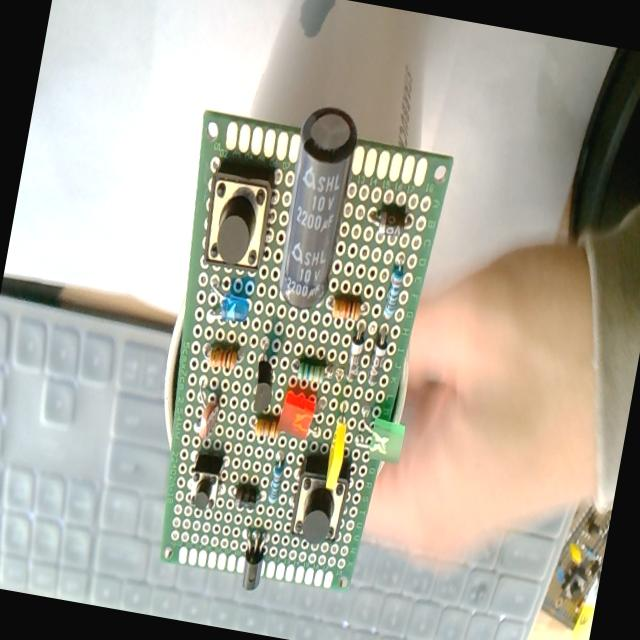Electrolytic capacitor: (266, 87, 366, 321)
cds: (178, 371, 230, 444)
diode: (363, 198, 418, 242), (339, 320, 371, 385), (363, 323, 390, 392), (224, 474, 268, 512)
led: (351, 398, 411, 471), (315, 398, 357, 497), (197, 272, 260, 332), (276, 378, 332, 439)
resistor: (377, 245, 412, 328), (198, 334, 252, 379), (288, 346, 340, 386), (320, 286, 374, 324), (263, 449, 290, 513), (244, 413, 286, 446)
switch: (194, 138, 285, 283), (284, 448, 354, 558), (182, 444, 228, 519)
transistor: (243, 329, 285, 418), (233, 522, 275, 598)
